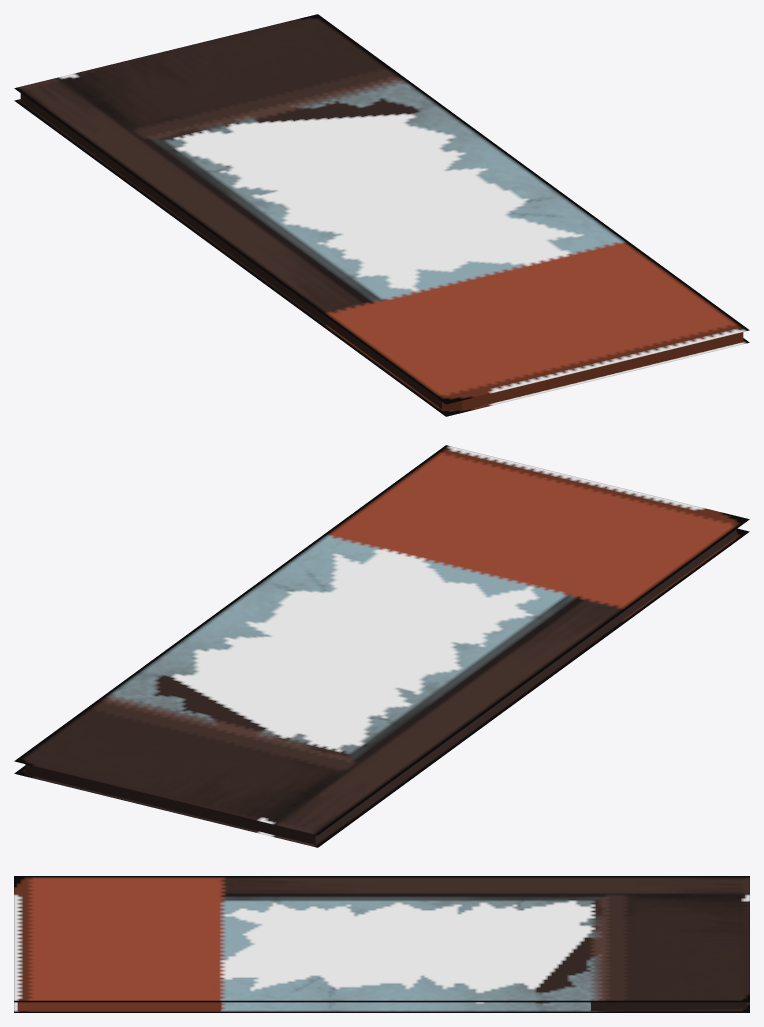
The model's file is pz_native_location_restaurant_seahorse_01_24_frame.obj.
The picture shows the model from 3 angles, top to bottom: view 1: azimuth 30°, elevation 25°; view 2: azimuth 150°, elevation 25°; view 3: azimuth 270°, elevation 25°; orthographic projection. The views are drawn at different scales.
Visible parts, largest first — view 1: pz_native_location_restaurant_seahorse_01_24_frame; view 2: pz_native_location_restaurant_seahorse_01_24_frame; view 3: pz_native_location_restaurant_seahorse_01_24_frame.
Part boxes in pixels (left/top/right/bottom): pz_native_location_restaurant_seahorse_01_24_frame: left=14, top=14, right=749, bottom=416; pz_native_location_restaurant_seahorse_01_24_frame: left=14, top=445, right=749, bottom=847; pz_native_location_restaurant_seahorse_01_24_frame: left=14, top=876, right=749, bottom=1012.
Bounding box in the file's own units: 1.03 × 0.04 × 2.54.
1 material, 1 textured.
